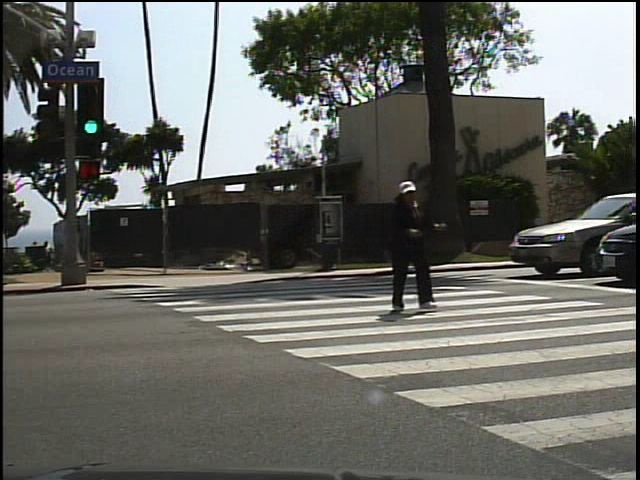person: (368, 165, 442, 331)
